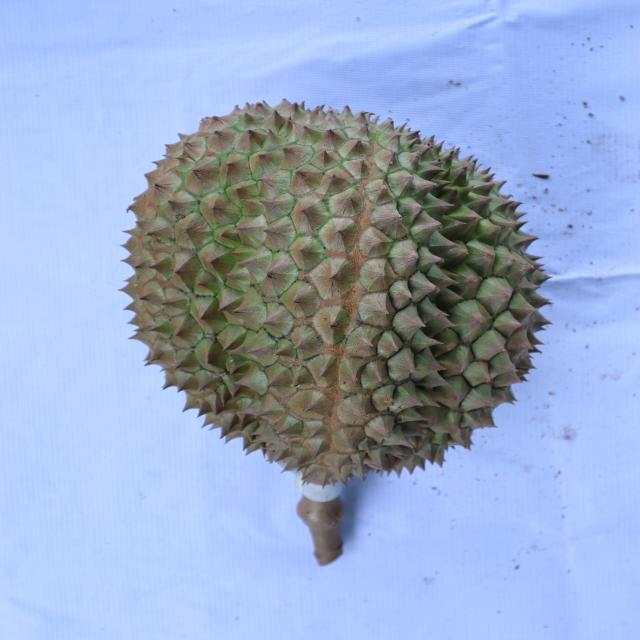mature: (122, 94, 556, 475)
